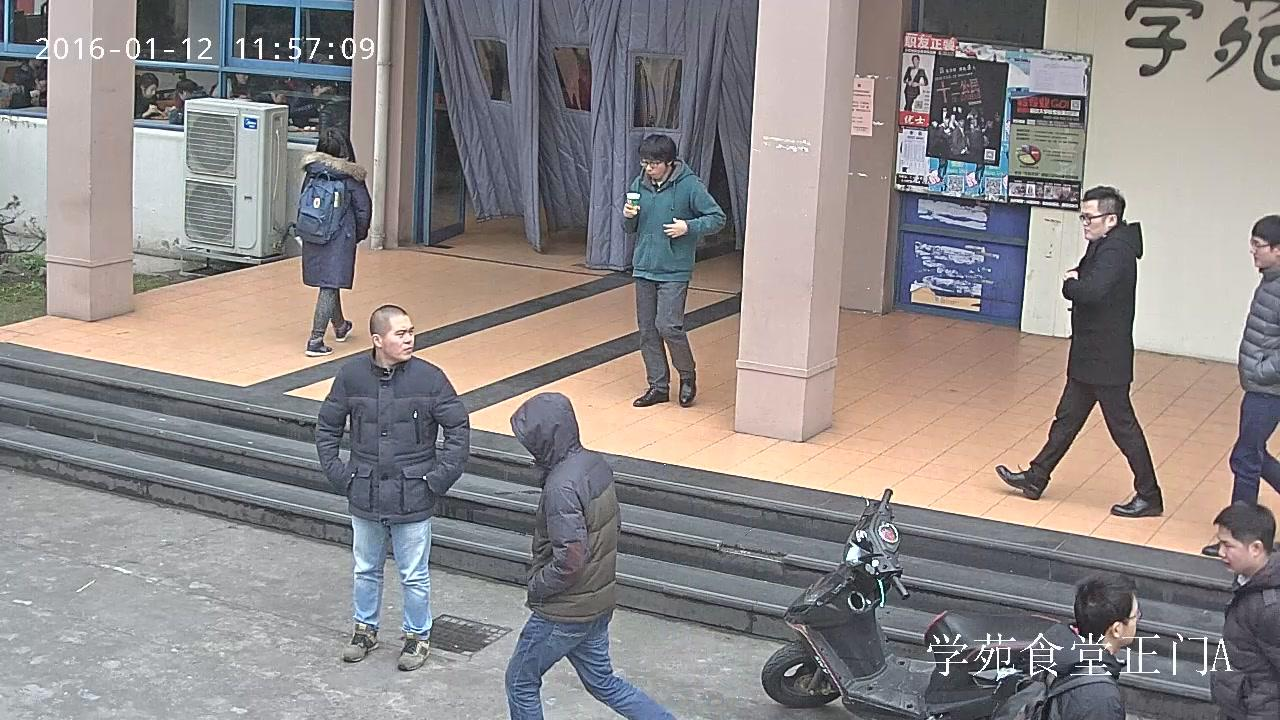person: (312, 303, 470, 672), (502, 390, 673, 720), (996, 185, 1165, 518), (620, 133, 726, 408), (1199, 214, 1280, 556), (988, 569, 1142, 720), (297, 126, 371, 358), (1206, 503, 1280, 720), (134, 71, 165, 122), (902, 55, 928, 112), (314, 91, 348, 134)
